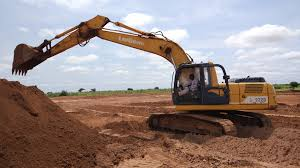excavator: (12, 13, 278, 139)
